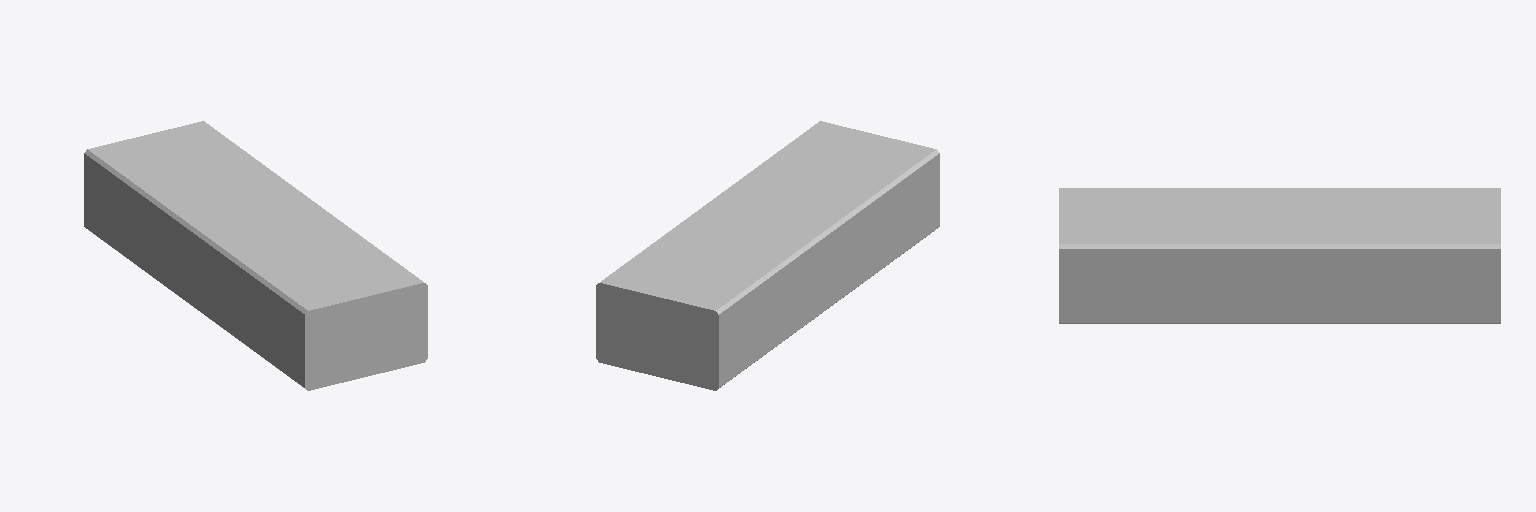
The model's file is factory_rectangular_peg_16mm_tight_subdiv_3x.obj.
3 renders of one model, left to right at view 1: azimuth 30°, elevation 25°; view 2: azimuth 150°, elevation 25°; view 3: azimuth 270°, elevation 25°, orthographic.
Visible parts, largest first — view 1: mesh2, mesh4, mesh5, mesh3; view 2: mesh2, mesh4, mesh6, mesh3; view 3: mesh0, mesh2, mesh1.
Part boxes in pixels (left/top/right/bottom): mesh2: left=88, top=121, right=423, bottom=310; mesh4: left=84, top=153, right=304, bottom=387; mesh5: left=305, top=283, right=427, bottom=390; mesh3: left=85, top=149, right=307, bottom=314; mesh2: left=600, top=121, right=935, bottom=310; mesh4: left=719, top=153, right=939, bottom=387; mesh6: left=596, top=283, right=718, bottom=390; mesh3: left=716, top=149, right=938, bottom=314; mesh0: left=1059, top=249, right=1500, bottom=322; mesh2: left=1059, top=188, right=1500, bottom=243; mesh1: left=1059, top=244, right=1500, bottom=248.
Size of the model in its own units: 0.016 by 0.01 by 0.05.